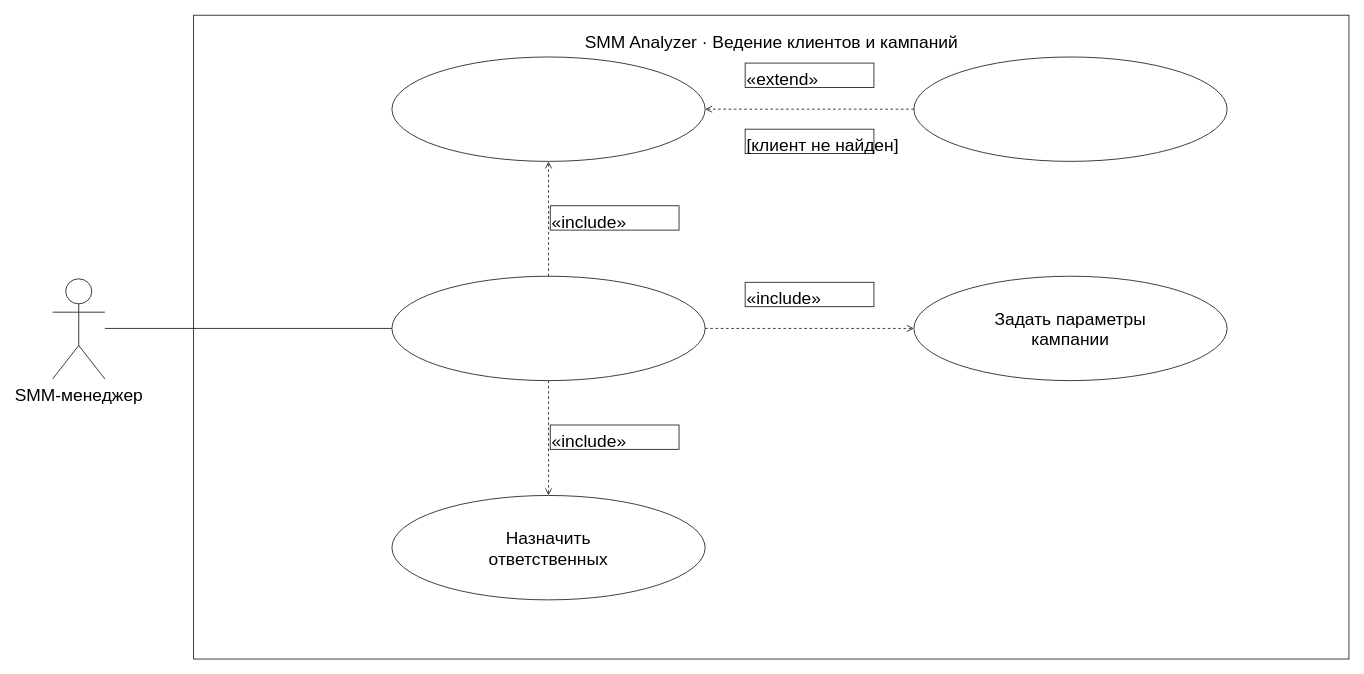
This 1364x674 diagram has some shape labels left out. Here are the shapes that lost their labels. From the top down, the centre of each, then its label:
[548,108]: Определить клиента
[1070,108]: Зарегистрировать нового клиента
[548,328]: Вести клиентов и кампании
